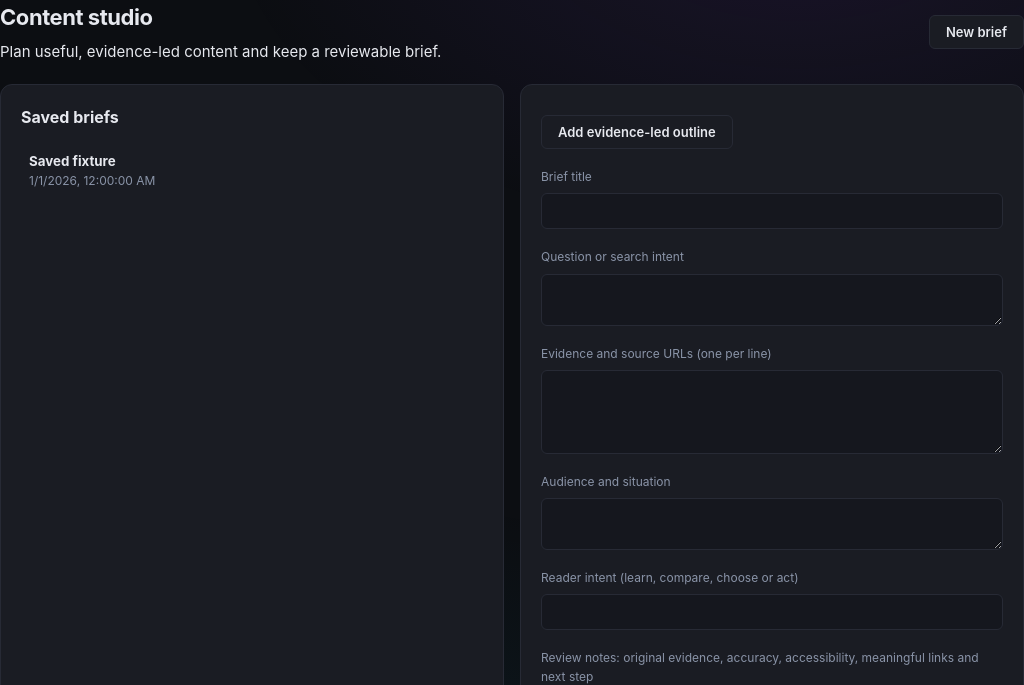
deletes and clears the saved draft through Delete brief
Click the button "Saved fixture 1/1/2026, 12:00:00 AM": (72, 161) [21, 141, 483, 200]
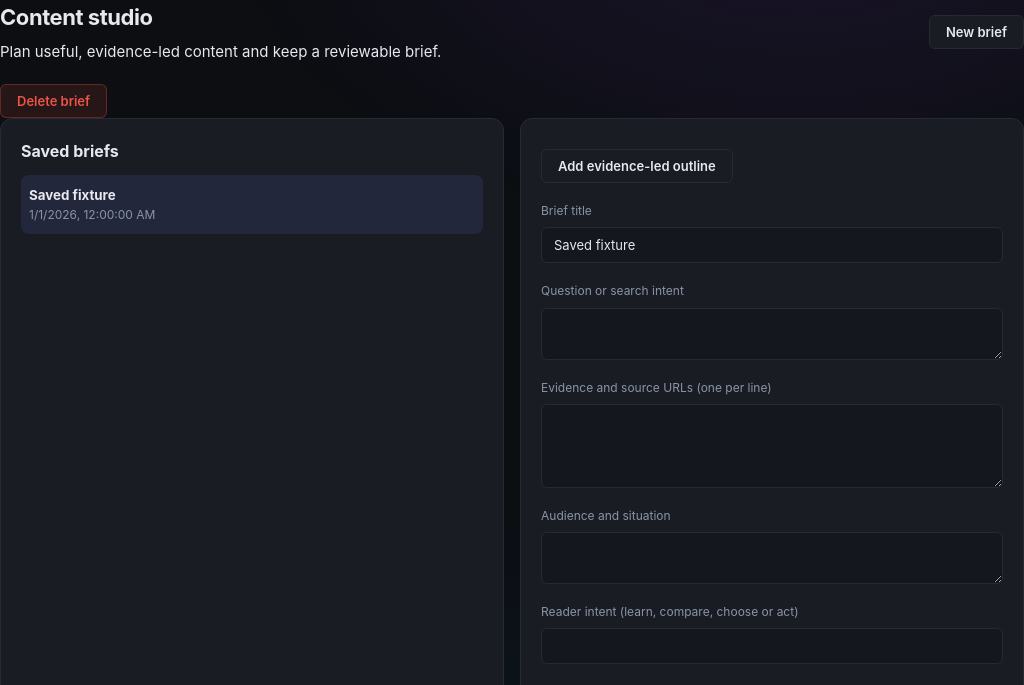
Replace the text in the field labelled "Brief title" with "Unsaved edit": (772, 245) [541, 227, 1003, 263]
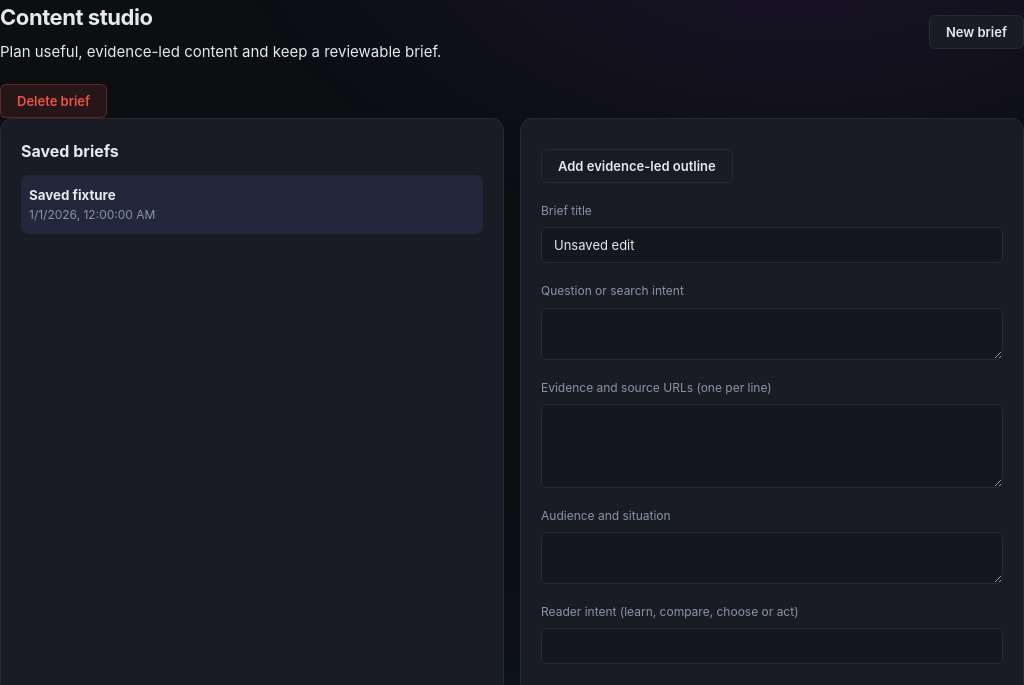
Click the button "Delete brief": (54, 101) [0, 84, 107, 118]
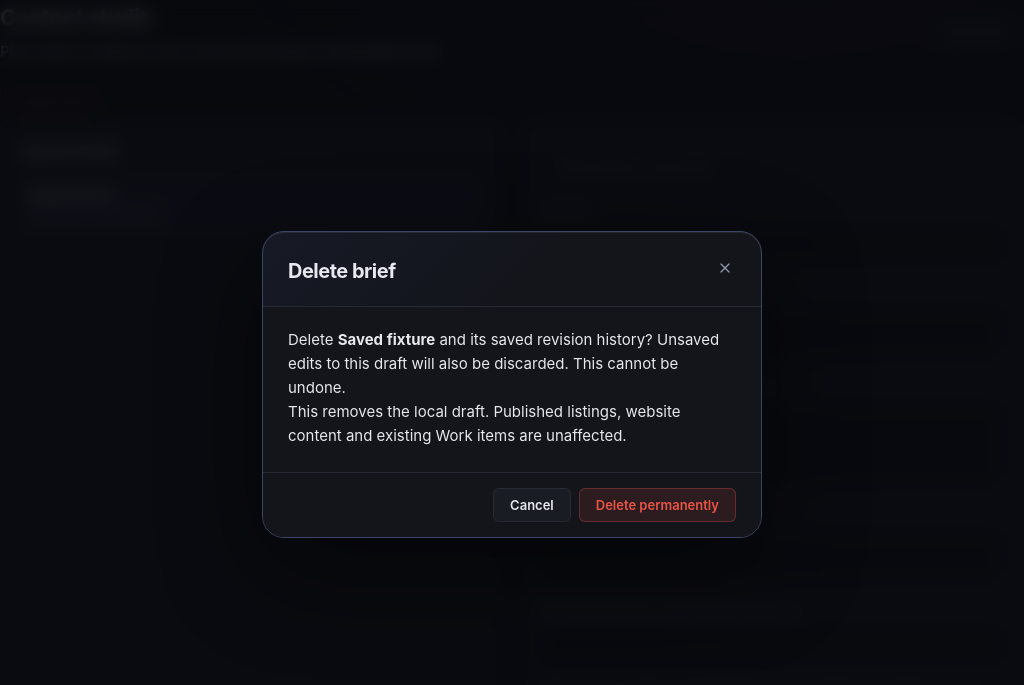
Expected: the text "Saved fixture" is shown, [338, 330, 435, 348]
Click the button "Delete permanently": (657, 504) [579, 488, 736, 522]
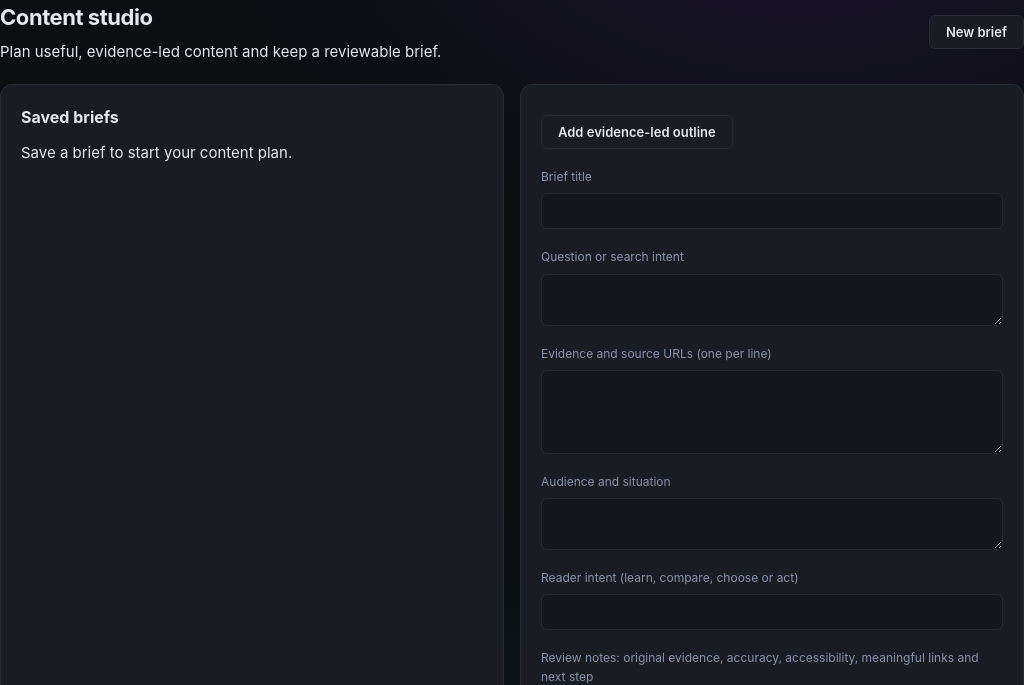
Expected: the button "Saved fixture" is not shown
Expected: the dialog is gone
